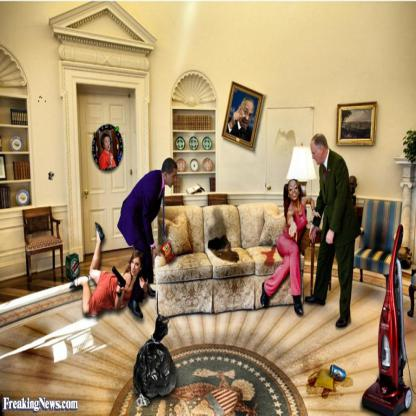face: (240, 101, 254, 128), (165, 169, 178, 188), (311, 144, 322, 166), (288, 181, 299, 201), (132, 257, 142, 276), (349, 181, 357, 194), (105, 137, 112, 151)
